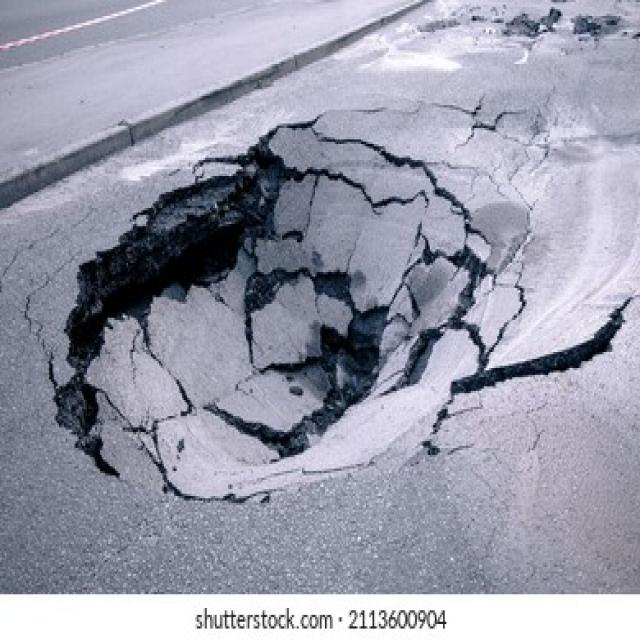road collapse: (7, 64, 640, 554)
